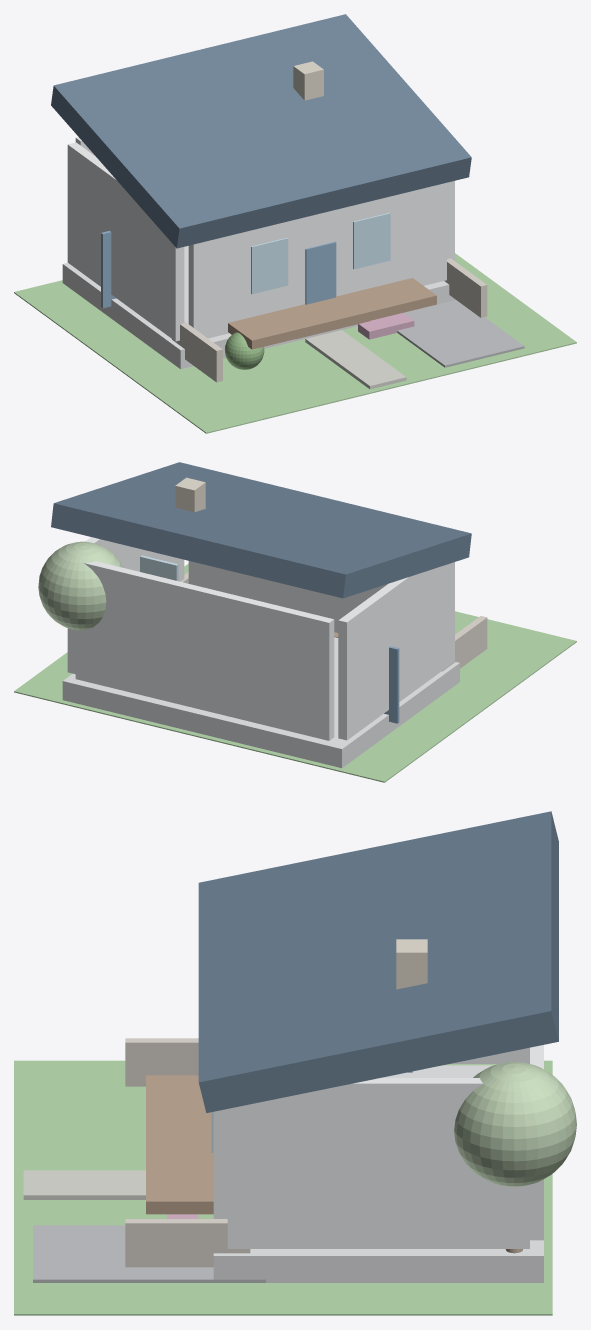
File: BUILDING_HOUSE_COASTAL_COTTAGE_001_LOD_CLOSE.glb
3 renders of one model, top to bottom at view 1: azimuth 30°, elevation 25°; view 2: azimuth 150°, elevation 25°; view 3: azimuth 270°, elevation 25°, orthographic. The views are drawn at different scales.
Visible parts, largest first — view 1: BUILDING_HOUSE_COASTAL_COTTAGE_001_CLOSE_ROOF, BUILDING_HOUSE_COASTAL_COTTAGE_001_CLOSE_GROUND, BUILDING_HOUSE_COASTAL_COTTAGE_001_CLOSE_WALL_FRONT, BUILDING_HOUSE_COASTAL_COTTAGE_001_CLOSE_WALL_LEFT, BUILDING_HOUSE_COASTAL_COTTAGE_001_CLOSE_VERANDAH, BUILDING_HOUSE_COASTAL_COTTAGE_001_CLOSE_DRIVEWAY, BUILDING_HOUSE_COASTAL_COTTAGE_001_CLOSE_FOUNDATION, BUILDING_HOUSE_COASTAL_COTTAGE_001_CLOSE_PATH, BUILDING_HOUSE_COASTAL_COTTAGE_001_CLOSE_WINDOW_02, BUILDING_HOUSE_COASTAL_COTTAGE_001_CLOSE_WINDOW_01, BUILDING_HOUSE_COASTAL_COTTAGE_001_CLOSE_DOOR_FRONT, BUILDING_HOUSE_COASTAL_COTTAGE_001_CLOSE_FENCE_01 (+6 smaller); view 2: BUILDING_HOUSE_COASTAL_COTTAGE_001_CLOSE_ROOF, BUILDING_HOUSE_COASTAL_COTTAGE_001_CLOSE_WALL_BACK, BUILDING_HOUSE_COASTAL_COTTAGE_001_CLOSE_GROUND, BUILDING_HOUSE_COASTAL_COTTAGE_001_CLOSE_WALL_LEFT, BUILDING_HOUSE_COASTAL_COTTAGE_001_CLOSE_FOUNDATION, BUILDING_HOUSE_COASTAL_COTTAGE_001_CLOSE_TREE_CANOPY, BUILDING_HOUSE_COASTAL_COTTAGE_001_CLOSE_WALL_FRONT, BUILDING_HOUSE_COASTAL_COTTAGE_001_CLOSE_WALL_RIGHT, BUILDING_HOUSE_COASTAL_COTTAGE_001_CLOSE_FENCE_01, BUILDING_HOUSE_COASTAL_COTTAGE_001_CLOSE_CHIMNEY, BUILDING_HOUSE_COASTAL_COTTAGE_001_CLOSE_DOOR_SERVICE, BUILDING_HOUSE_COASTAL_COTTAGE_001_CLOSE_WINDOW_03; view 3: BUILDING_HOUSE_COASTAL_COTTAGE_001_CLOSE_ROOF, BUILDING_HOUSE_COASTAL_COTTAGE_001_CLOSE_WALL_RIGHT, BUILDING_HOUSE_COASTAL_COTTAGE_001_CLOSE_GROUND, BUILDING_HOUSE_COASTAL_COTTAGE_001_CLOSE_FOUNDATION, BUILDING_HOUSE_COASTAL_COTTAGE_001_CLOSE_TREE_CANOPY, BUILDING_HOUSE_COASTAL_COTTAGE_001_CLOSE_VERANDAH, BUILDING_HOUSE_COASTAL_COTTAGE_001_CLOSE_DRIVEWAY, BUILDING_HOUSE_COASTAL_COTTAGE_001_CLOSE_FENCE_02, BUILDING_HOUSE_COASTAL_COTTAGE_001_CLOSE_PATH, BUILDING_HOUSE_COASTAL_COTTAGE_001_CLOSE_FENCE_01, BUILDING_HOUSE_COASTAL_COTTAGE_001_CLOSE_WALL_FRONT, BUILDING_HOUSE_COASTAL_COTTAGE_001_CLOSE_CHIMNEY (+2 smaller).
Boxes of the visible parts, left/top/right/bottom form: BUILDING_HOUSE_COASTAL_COTTAGE_001_CLOSE_ROOF: left=51, top=14, right=471, bottom=248; BUILDING_HOUSE_COASTAL_COTTAGE_001_CLOSE_GROUND: left=14, top=253, right=576, bottom=433; BUILDING_HOUSE_COASTAL_COTTAGE_001_CLOSE_WALL_FRONT: left=188, top=182, right=446, bottom=338; BUILDING_HOUSE_COASTAL_COTTAGE_001_CLOSE_WALL_LEFT: left=67, top=142, right=184, bottom=341; BUILDING_HOUSE_COASTAL_COTTAGE_001_CLOSE_VERANDAH: left=228, top=278, right=436, bottom=349; BUILDING_HOUSE_COASTAL_COTTAGE_001_CLOSE_DRIVEWAY: left=397, top=300, right=524, bottom=367; BUILDING_HOUSE_COASTAL_COTTAGE_001_CLOSE_FOUNDATION: left=62, top=246, right=455, bottom=369; BUILDING_HOUSE_COASTAL_COTTAGE_001_CLOSE_PATH: left=305, top=330, right=406, bottom=389; BUILDING_HOUSE_COASTAL_COTTAGE_001_CLOSE_WINDOW_02: left=353, top=212, right=390, bottom=269; BUILDING_HOUSE_COASTAL_COTTAGE_001_CLOSE_WINDOW_01: left=251, top=237, right=288, bottom=294; BUILDING_HOUSE_COASTAL_COTTAGE_001_CLOSE_DOOR_FRONT: left=305, top=241, right=336, bottom=304; BUILDING_HOUSE_COASTAL_COTTAGE_001_CLOSE_FENCE_01: left=172, top=321, right=222, bottom=382; BUILDING_HOUSE_COASTAL_COTTAGE_001_CLOSE_ROOF: left=51, top=462, right=471, bottom=598; BUILDING_HOUSE_COASTAL_COTTAGE_001_CLOSE_WALL_BACK: left=75, top=561, right=334, bottom=740; BUILDING_HOUSE_COASTAL_COTTAGE_001_CLOSE_GROUND: left=14, top=563, right=576, bottom=782; BUILDING_HOUSE_COASTAL_COTTAGE_001_CLOSE_WALL_LEFT: left=338, top=562, right=454, bottom=740; BUILDING_HOUSE_COASTAL_COTTAGE_001_CLOSE_FOUNDATION: left=62, top=637, right=459, bottom=768; BUILDING_HOUSE_COASTAL_COTTAGE_001_CLOSE_TREE_CANOPY: left=38, top=541, right=123, bottom=630; BUILDING_HOUSE_COASTAL_COTTAGE_001_CLOSE_WALL_FRONT: left=188, top=561, right=387, bottom=632; BUILDING_HOUSE_COASTAL_COTTAGE_001_CLOSE_WALL_RIGHT: left=67, top=537, right=184, bottom=674; BUILDING_HOUSE_COASTAL_COTTAGE_001_CLOSE_FENCE_01: left=442, top=616, right=487, bottom=671; BUILDING_HOUSE_COASTAL_COTTAGE_001_CLOSE_CHIMNEY: left=175, top=477, right=205, bottom=512; BUILDING_HOUSE_COASTAL_COTTAGE_001_CLOSE_DOOR_SERVICE: left=384, top=646, right=399, bottom=723; BUILDING_HOUSE_COASTAL_COTTAGE_001_CLOSE_WINDOW_03: left=140, top=555, right=178, bottom=581; BUILDING_HOUSE_COASTAL_COTTAGE_001_CLOSE_ROOF: left=198, top=811, right=558, bottom=1112; BUILDING_HOUSE_COASTAL_COTTAGE_001_CLOSE_WALL_RIGHT: left=227, top=1078, right=529, bottom=1248; BUILDING_HOUSE_COASTAL_COTTAGE_001_CLOSE_GROUND: left=14, top=1060, right=552, bottom=1315; BUILDING_HOUSE_COASTAL_COTTAGE_001_CLOSE_FOUNDATION: left=213, top=1065, right=543, bottom=1282; BUILDING_HOUSE_COASTAL_COTTAGE_001_CLOSE_TREE_CANOPY: left=454, top=1062, right=576, bottom=1186; BUILDING_HOUSE_COASTAL_COTTAGE_001_CLOSE_VERANDAH: left=146, top=1075, right=213, bottom=1214; BUILDING_HOUSE_COASTAL_COTTAGE_001_CLOSE_DRIVEWAY: left=33, top=1225, right=265, bottom=1282; BUILDING_HOUSE_COASTAL_COTTAGE_001_CLOSE_FENCE_02: left=125, top=1219, right=250, bottom=1267; BUILDING_HOUSE_COASTAL_COTTAGE_001_CLOSE_PATH: left=23, top=1170, right=145, bottom=1199; BUILDING_HOUSE_COASTAL_COTTAGE_001_CLOSE_FENCE_01: left=125, top=1038, right=198, bottom=1086; BUILDING_HOUSE_COASTAL_COTTAGE_001_CLOSE_WALL_FRONT: left=213, top=1109, right=227, bottom=1218; BUILDING_HOUSE_COASTAL_COTTAGE_001_CLOSE_CHIMNEY: left=396, top=939, right=427, bottom=989.
Size of the model in its own units: 6.9 by 3.62 by 6.48.
